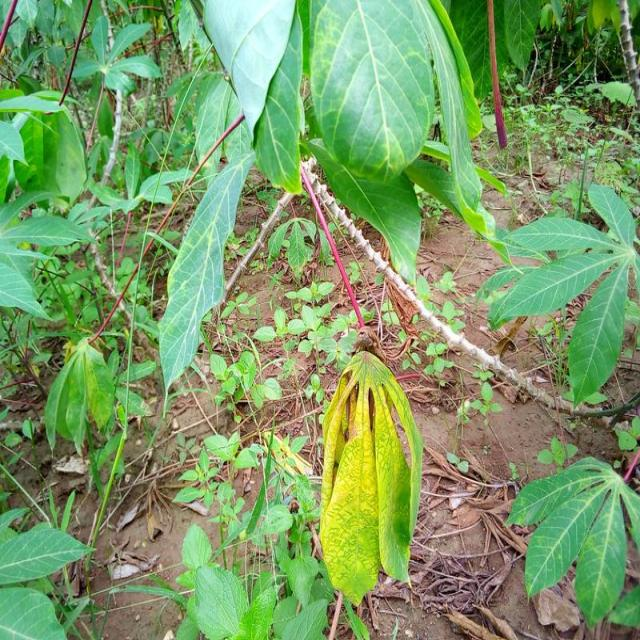cassava leaf: (318, 345, 423, 606), (157, 148, 255, 411), (308, 0, 435, 185)
